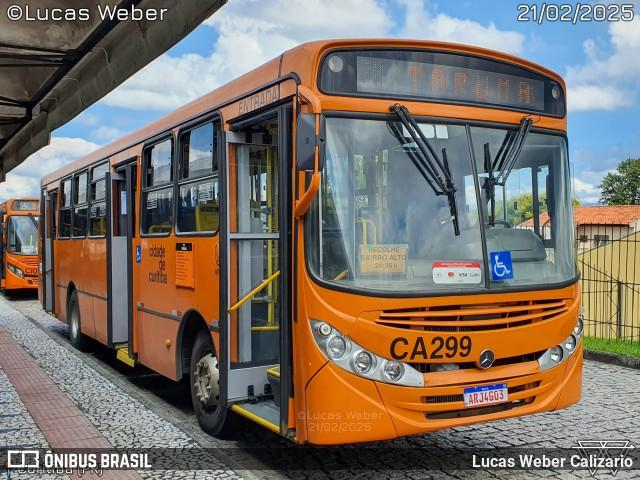TARUMA: (401, 60, 535, 109)
